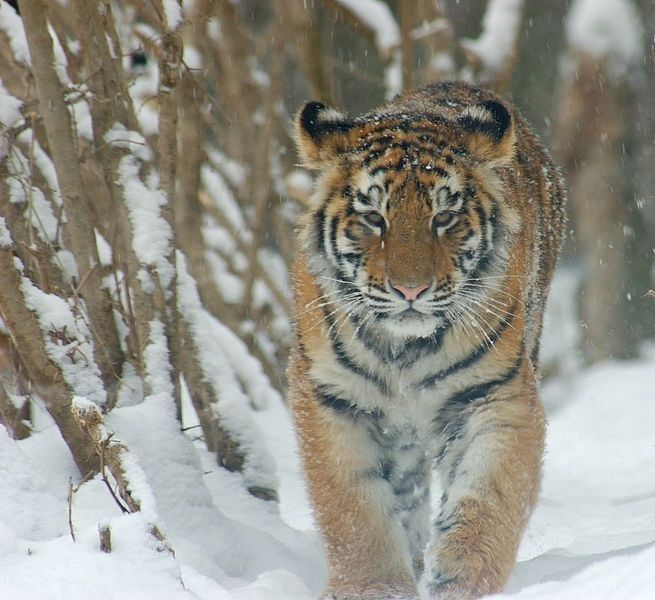tigre: (274, 76, 568, 600)
